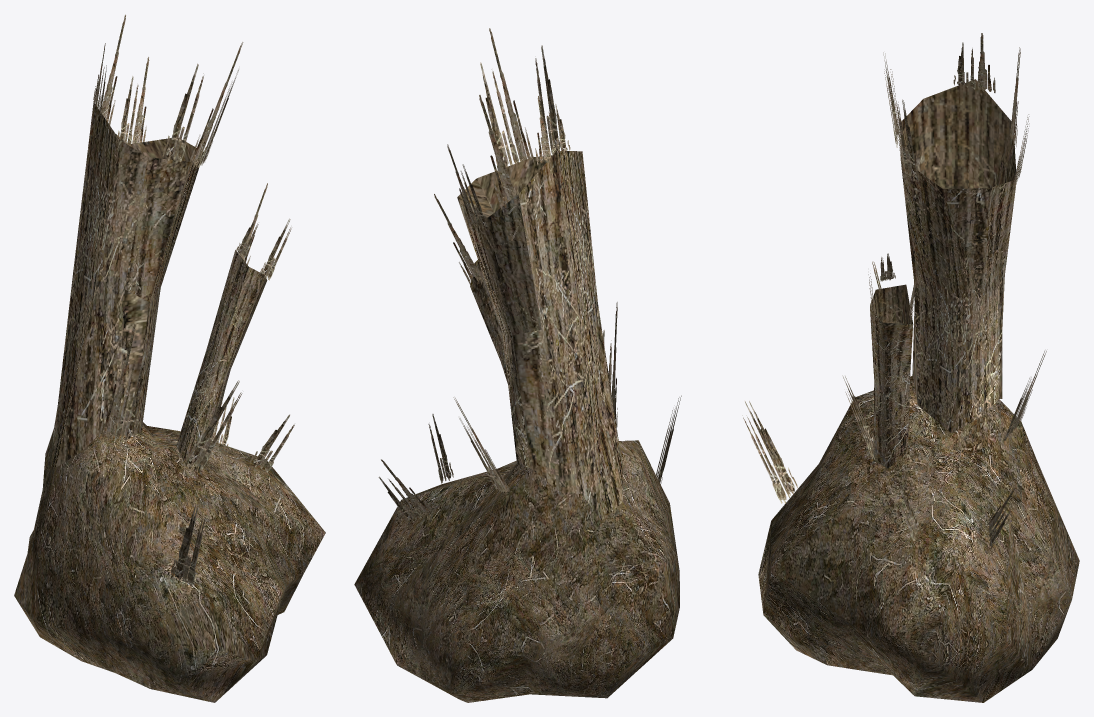
File: poi_all_lair_warren_small_l1.fbx
3 views of the same model, side by side, from view 1: azimuth 30°, elevation 25°; view 2: azimuth 150°, elevation 25°; view 3: azimuth 270°, elevation 25° (orthographic).
Parts seen in each view (by area): view 1: mesh_node; view 2: mesh_node; view 3: mesh_node.
Part boxes in pixels (left/top/right/bottom): mesh_node: left=14, top=14, right=325, bottom=702; mesh_node: left=354, top=28, right=681, bottom=702; mesh_node: left=742, top=33, right=1079, bottom=702.
Size of the model in its own units: 1.6 by 3.4 by 1.69.
4 materials, 4 textured.
